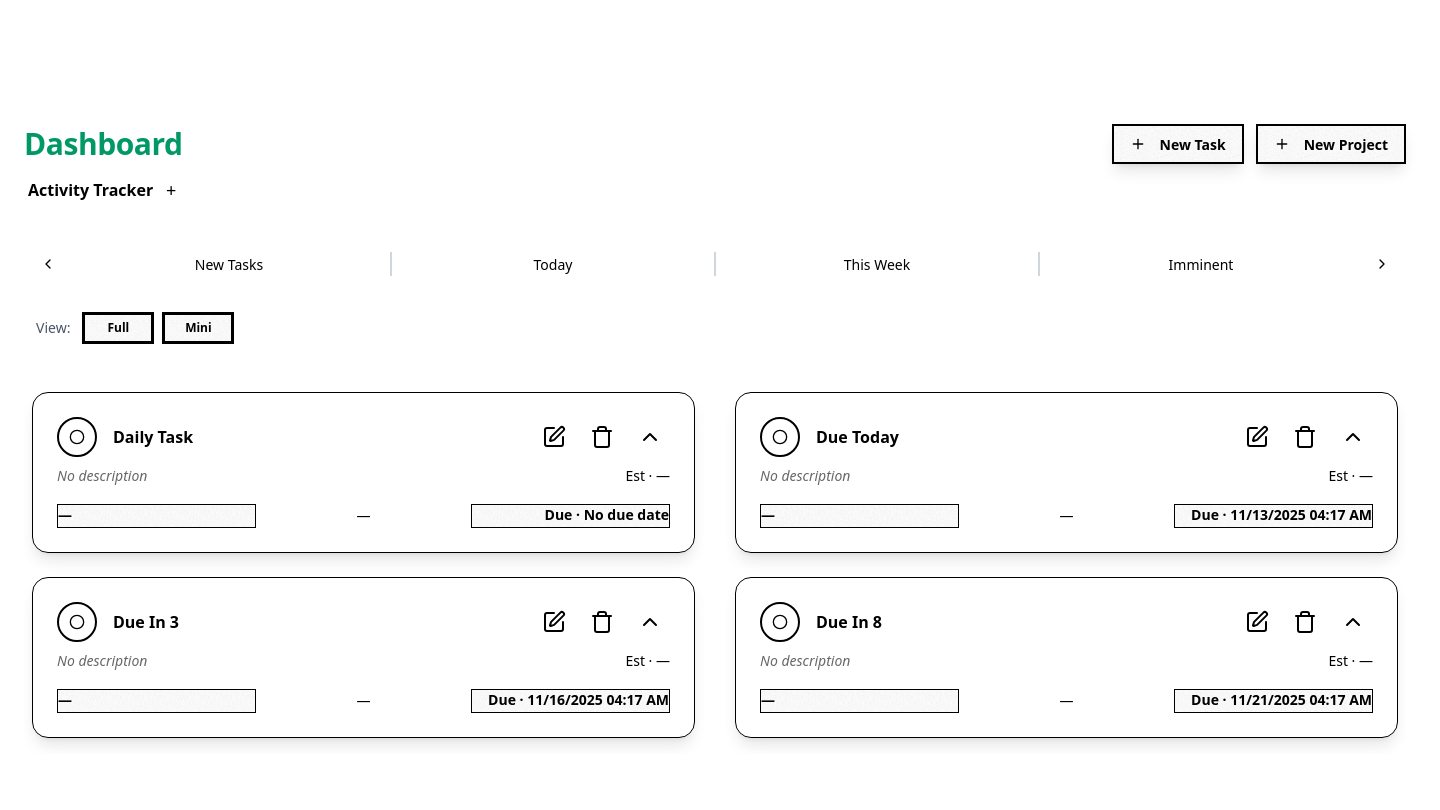
Scenario: Dashboard bucketing › shows tasks due within the next 6 days in Week view, but not 7+ days
The width and height of the screenshot is (1440, 810).
Click the tab "This Week": [877, 264] box x1=728 y1=244 x2=1026 y2=284
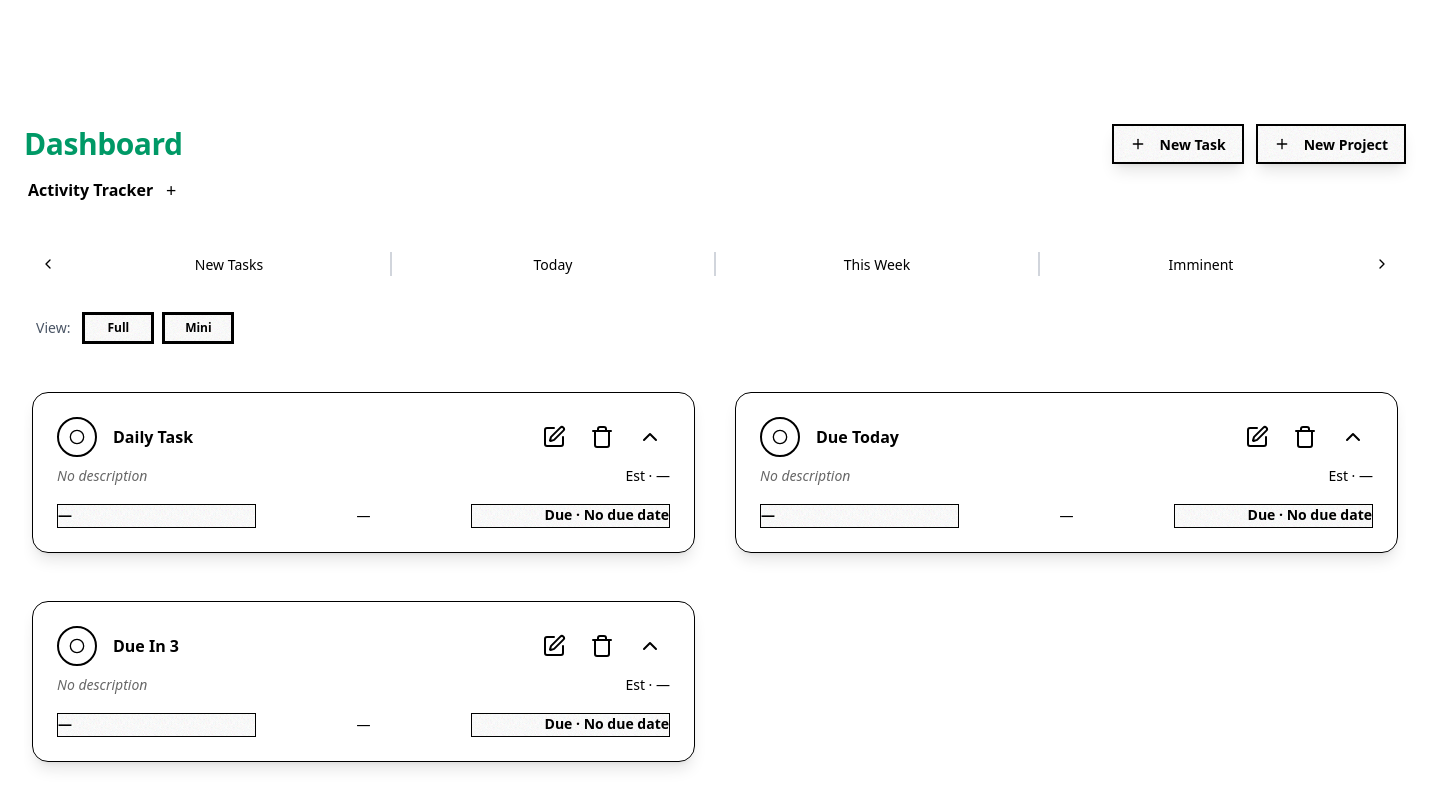
Now the element named "task due in 3" is shown, box x1=32 y1=601 x2=695 y2=762
